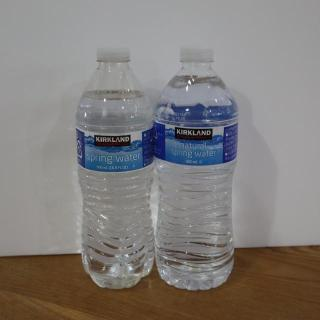Plastic-bottle: (152, 38, 242, 296), (70, 47, 156, 285)
